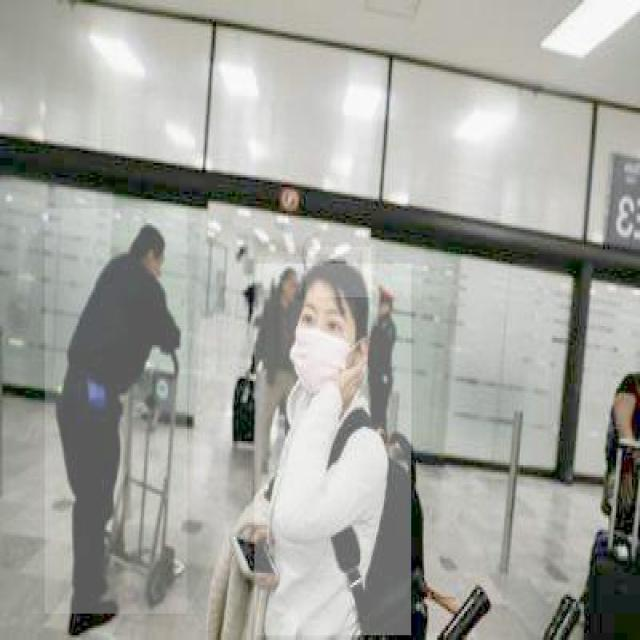face_mask: (291, 300, 355, 393)
head_nohelmet: (306, 247, 371, 297), (133, 220, 168, 259)
person: (253, 264, 411, 638), (43, 209, 187, 616)
shoes: (67, 586, 122, 636)
